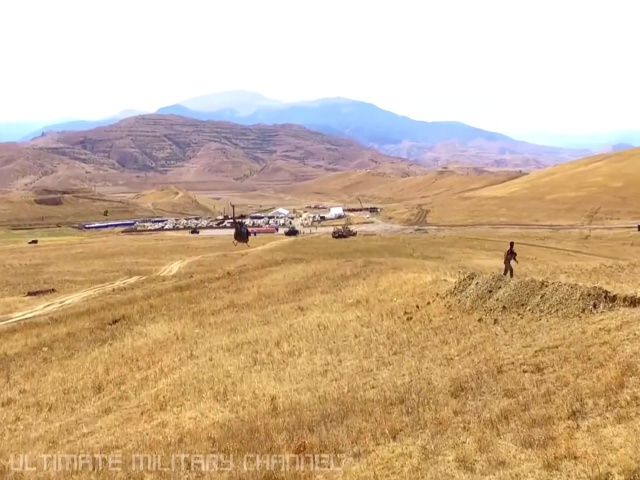person: (501, 240, 517, 278)
